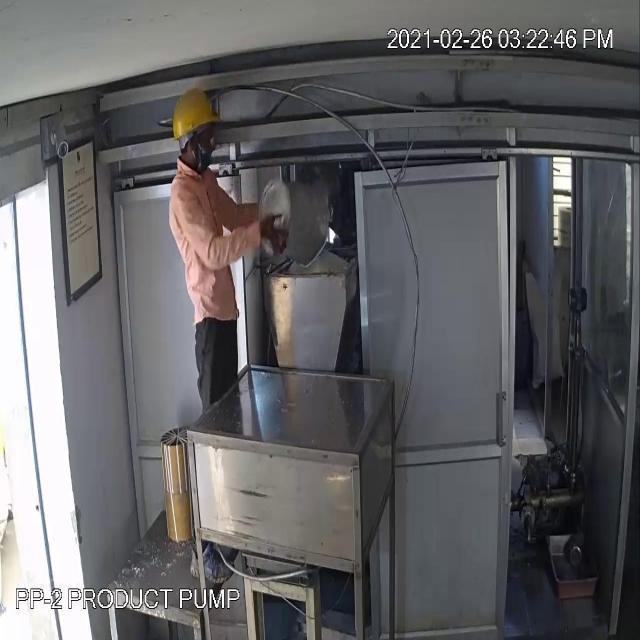hat: (170, 80, 222, 144)
